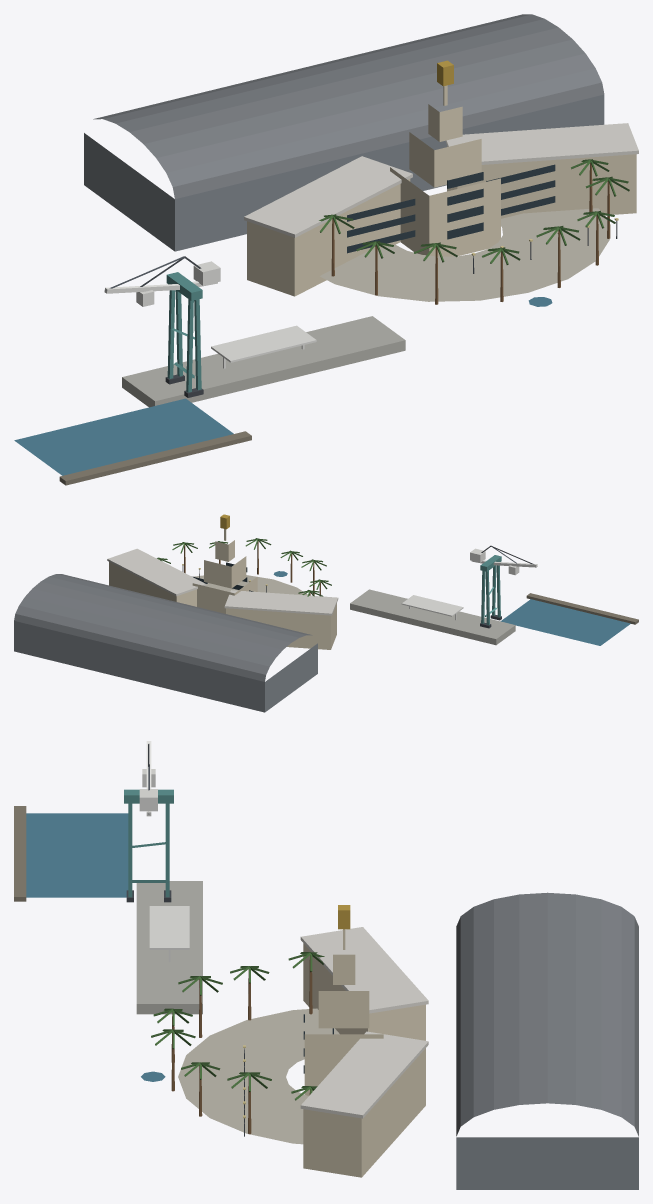
File: desktop.glb
3 views of the same model, one above another, from view 1: azimuth 30°, elevation 25°; view 2: azimuth 150°, elevation 25°; view 3: azimuth 270°, elevation 25° (orthographic). The views are drawn at different scales.
Visible parts, largest first — view 1: lm.treasure-island; view 2: lm.treasure-island; view 3: lm.treasure-island.
Boxes of the visible parts, x1=… form: lm.treasure-island: x1=14, y1=14, x2=638, y2=485; lm.treasure-island: x1=14, y1=514, x2=638, y2=712; lm.treasure-island: x1=14, y1=741, x2=638, y2=1189.
Size of the model in its own units: 212 by 47 by 150.
